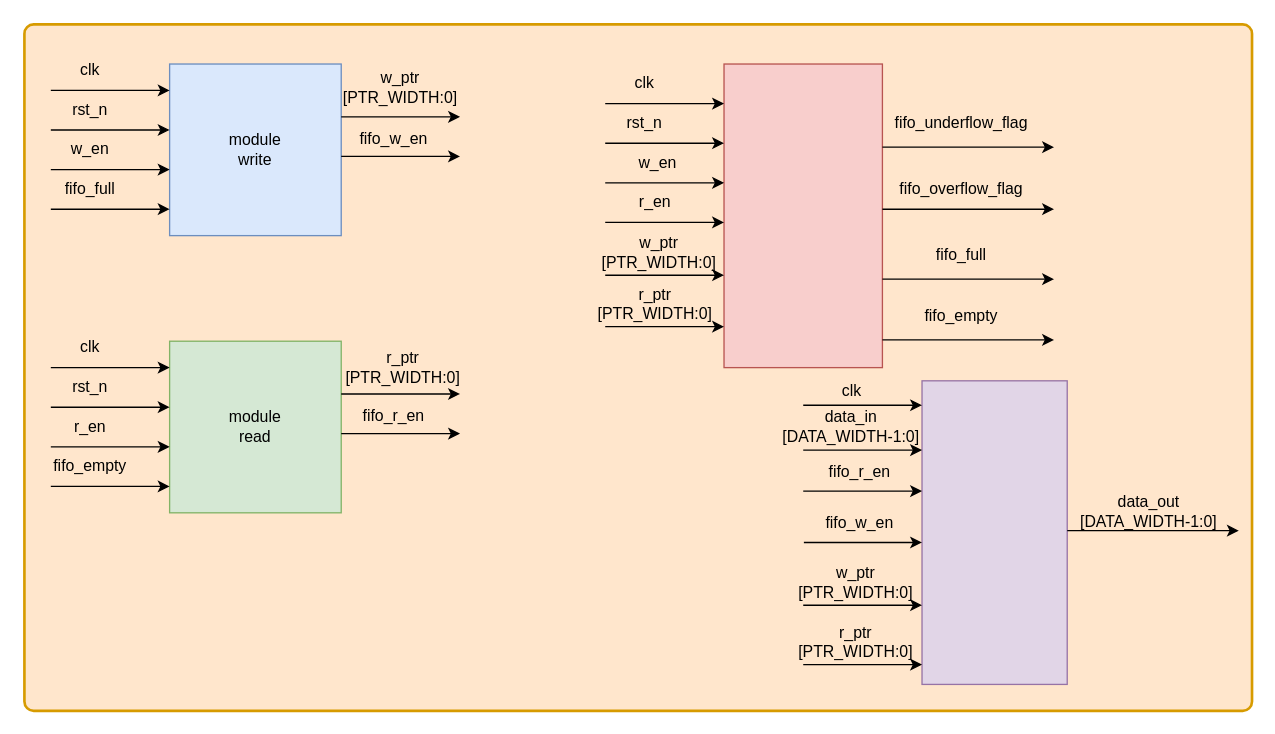
Some shapes in this 1275 by 734 pixel diagram are drawn without their labels. Each missing label, with the box of its shape:
module array: (921, 380, 1067, 684)
module state: (723, 63, 882, 368)
